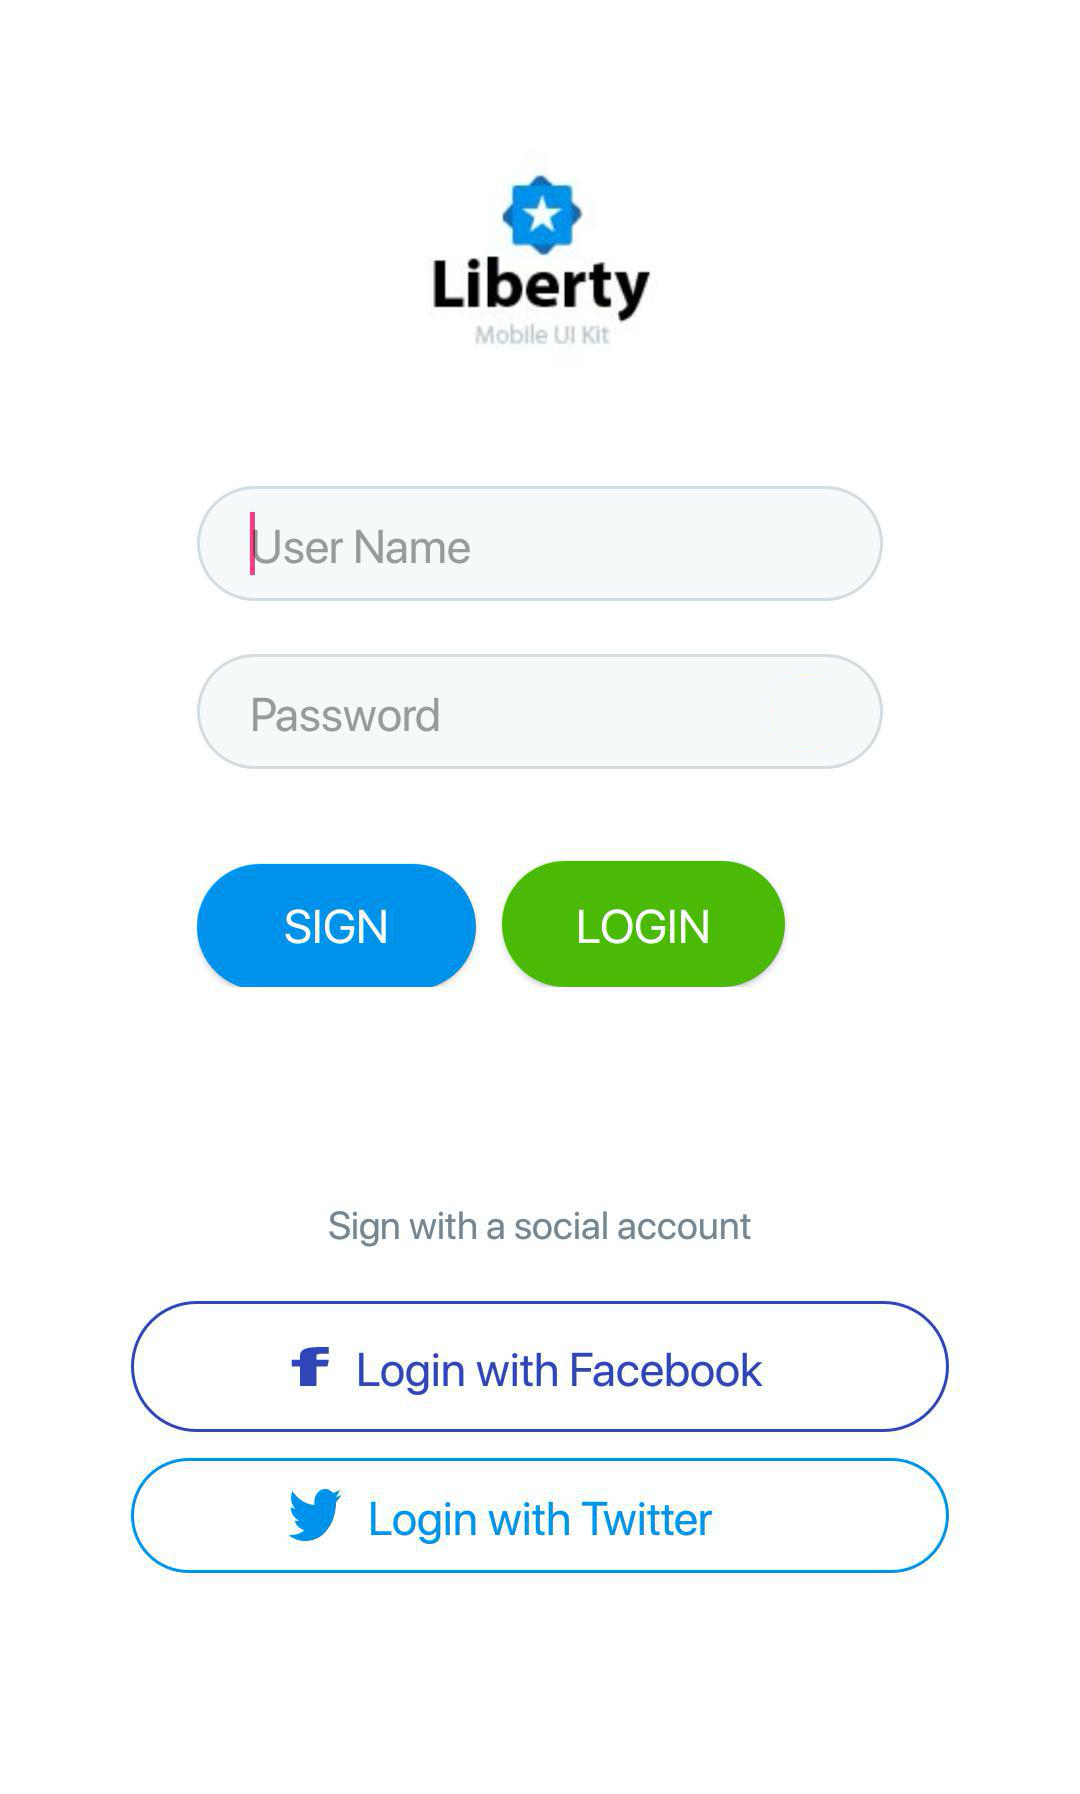EditText: (197, 486, 884, 602), (197, 654, 884, 770)
Image: (433, 176, 652, 347)
Text: (328, 1210, 753, 1249), (252, 531, 471, 566), (252, 697, 439, 733)
TextButton: (131, 1299, 951, 1433), (131, 1457, 951, 1574), (502, 860, 787, 989), (197, 864, 478, 988)
